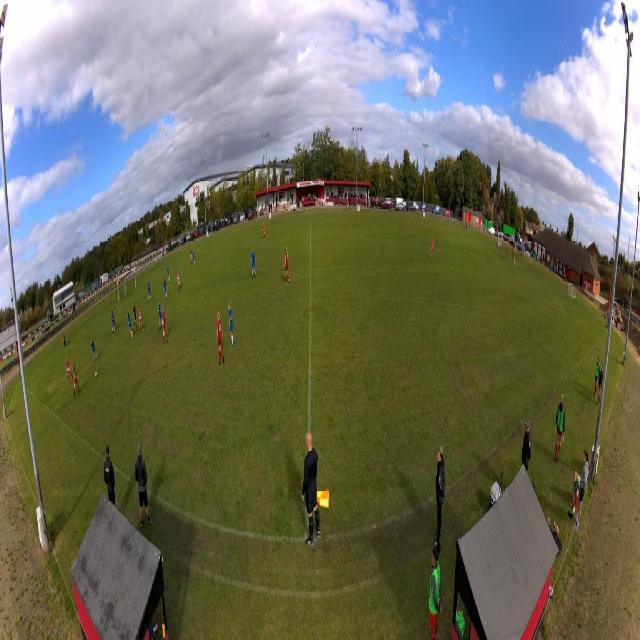ball: (95, 371, 98, 378)
player: (216, 312, 225, 366), (227, 300, 235, 350), (284, 246, 291, 286), (65, 356, 74, 385), (73, 363, 80, 400), (138, 305, 145, 335), (250, 247, 256, 279), (157, 299, 163, 331), (162, 307, 167, 343), (127, 312, 133, 340), (91, 340, 98, 362), (163, 278, 168, 302), (133, 303, 137, 330), (430, 235, 434, 261), (177, 266, 181, 292), (147, 279, 151, 303), (111, 311, 115, 333), (262, 221, 266, 241), (167, 265, 171, 281), (114, 309, 117, 328), (193, 249, 196, 268), (190, 248, 193, 266), (125, 285, 128, 302)
